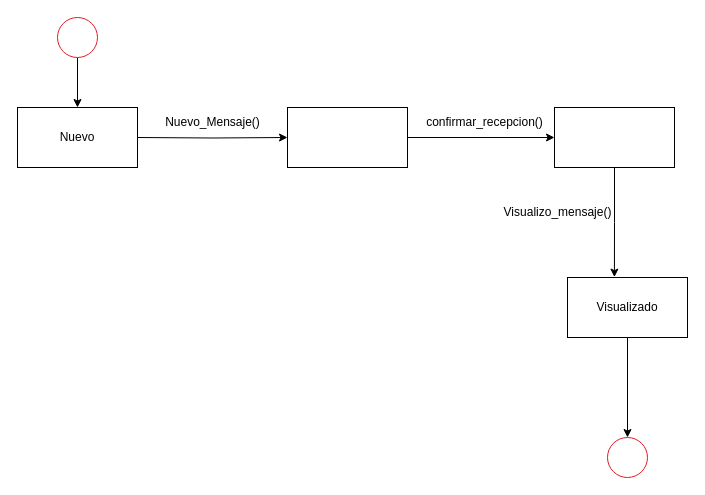
The diagram is 705 pixels wide and 495 high, and some of its shapes have lost their labels. Here are the shapes that lost their labels. From the top down, the centre of each, then its label:
At (347,137): "Enviado".
At (614,137): "Recibido".
